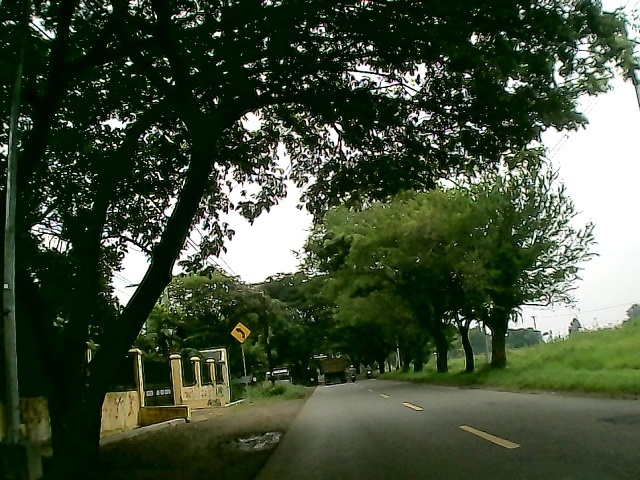Tikungan ke kiri: (226, 321, 251, 344)
